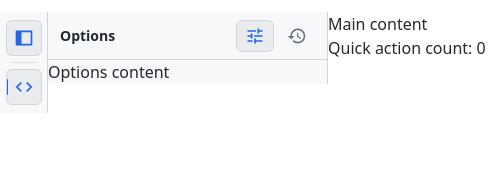
Test: ToolWorkspaceShell › switches panel tabs and keeps main content visible
This screenshot has width=502, height=172.
Expected: the text "Options content" is shown, [48,61,169,83]
Expected: the text "Main content" is shown, [328,13,427,35]
Click the button named "History": [297, 36] box [278,20,316,52]
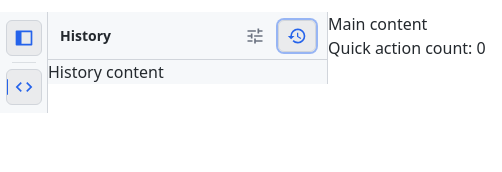
Expected: the text "Main content" is shown, [328,13,427,35]
Result: the text "History content" is shown at [48,61,164,83]
